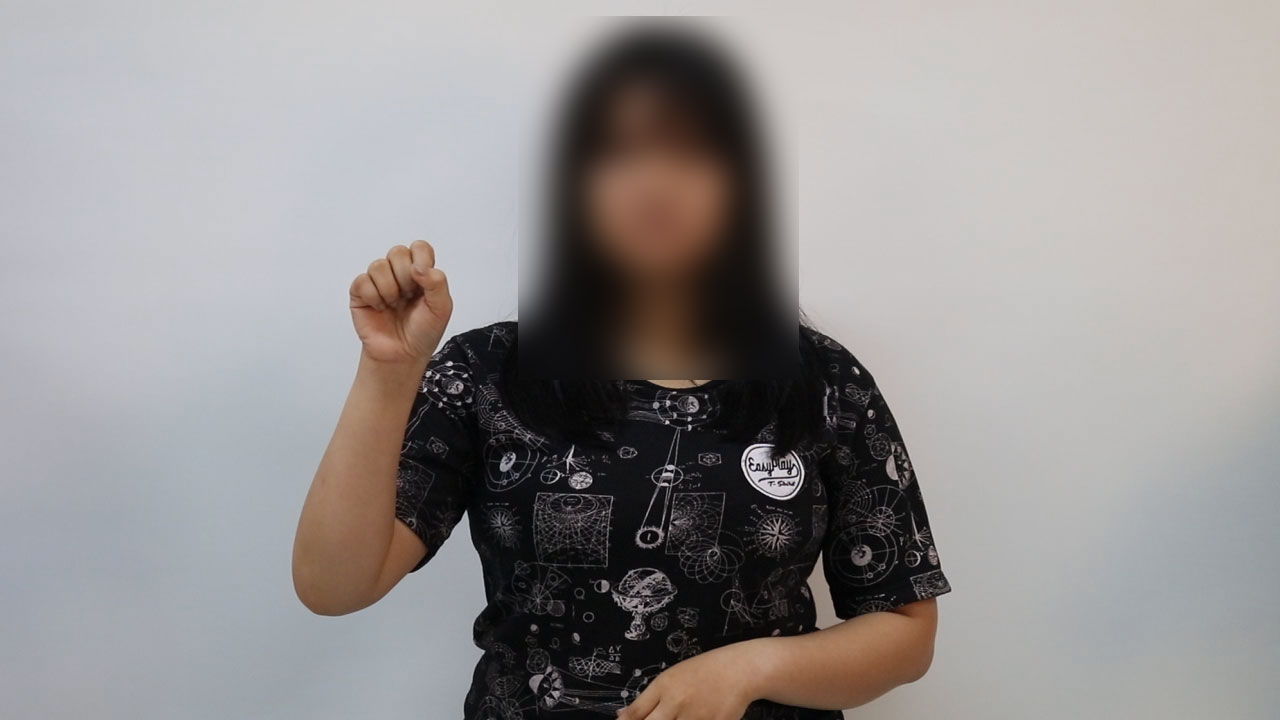sor: (338, 235, 459, 370)
